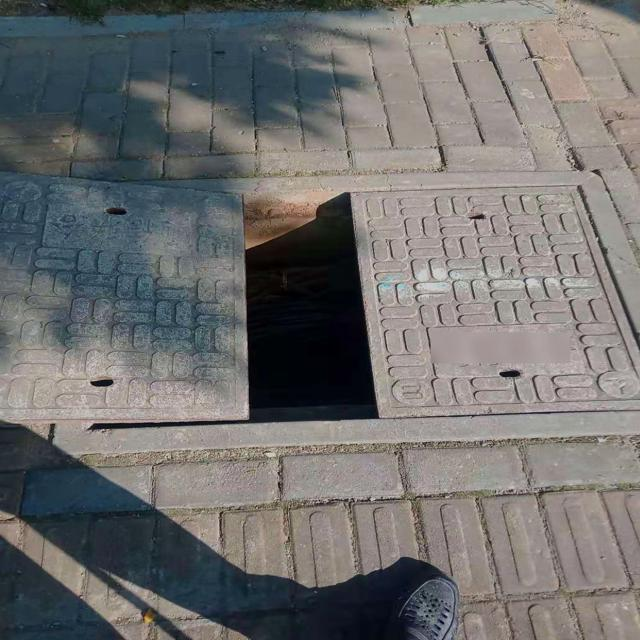uncovered: (0, 156, 582, 452)
